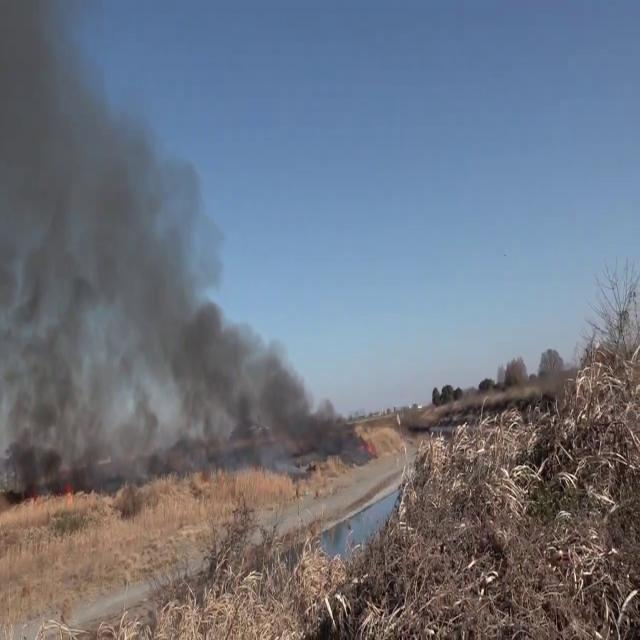Smoke: (0, 3, 343, 480)
